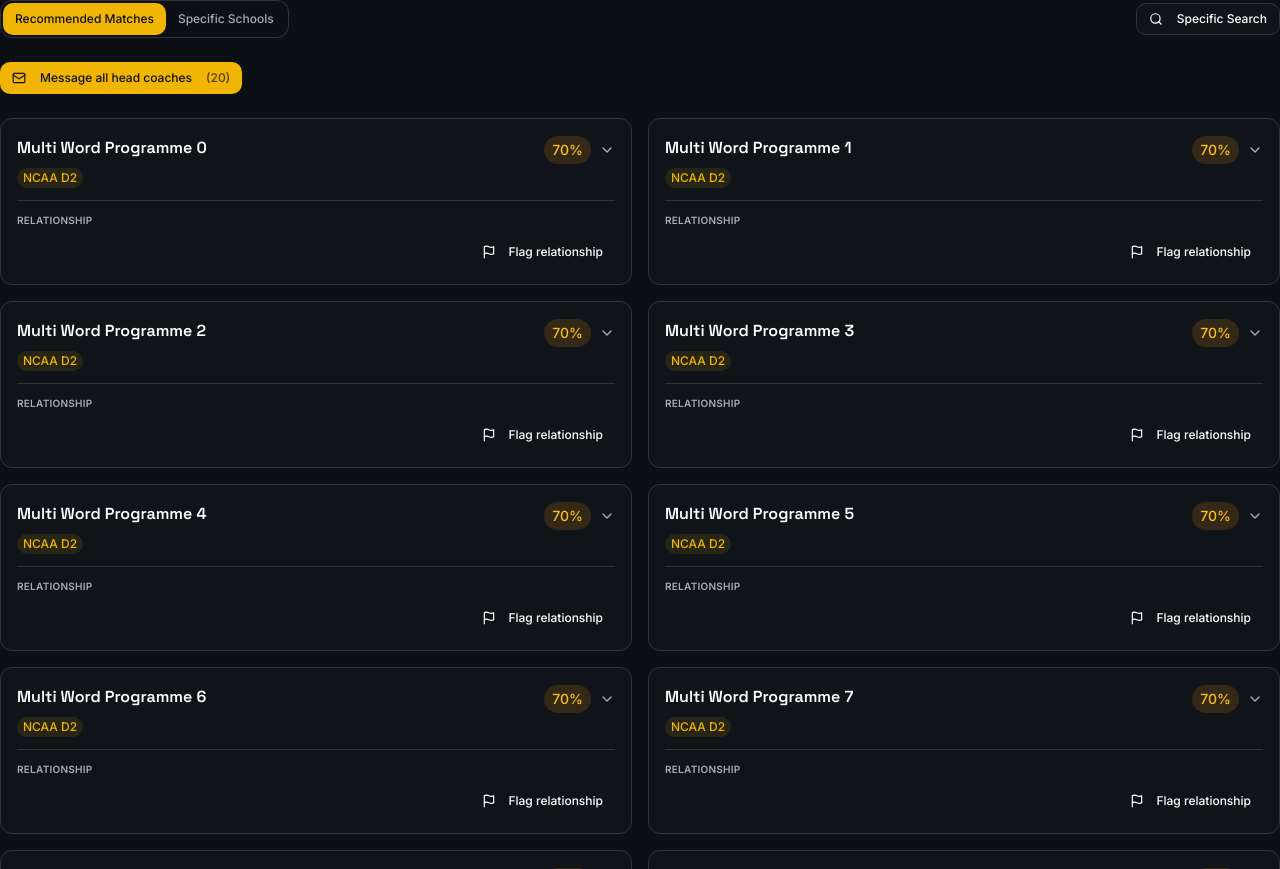
Test case: a failed page request is said once › shows one card’s unavailable locally, and no page-level line
Click the button "Multi Word Programme 0 NCAA D2 70%": [112, 148] box [17,136,615,188]
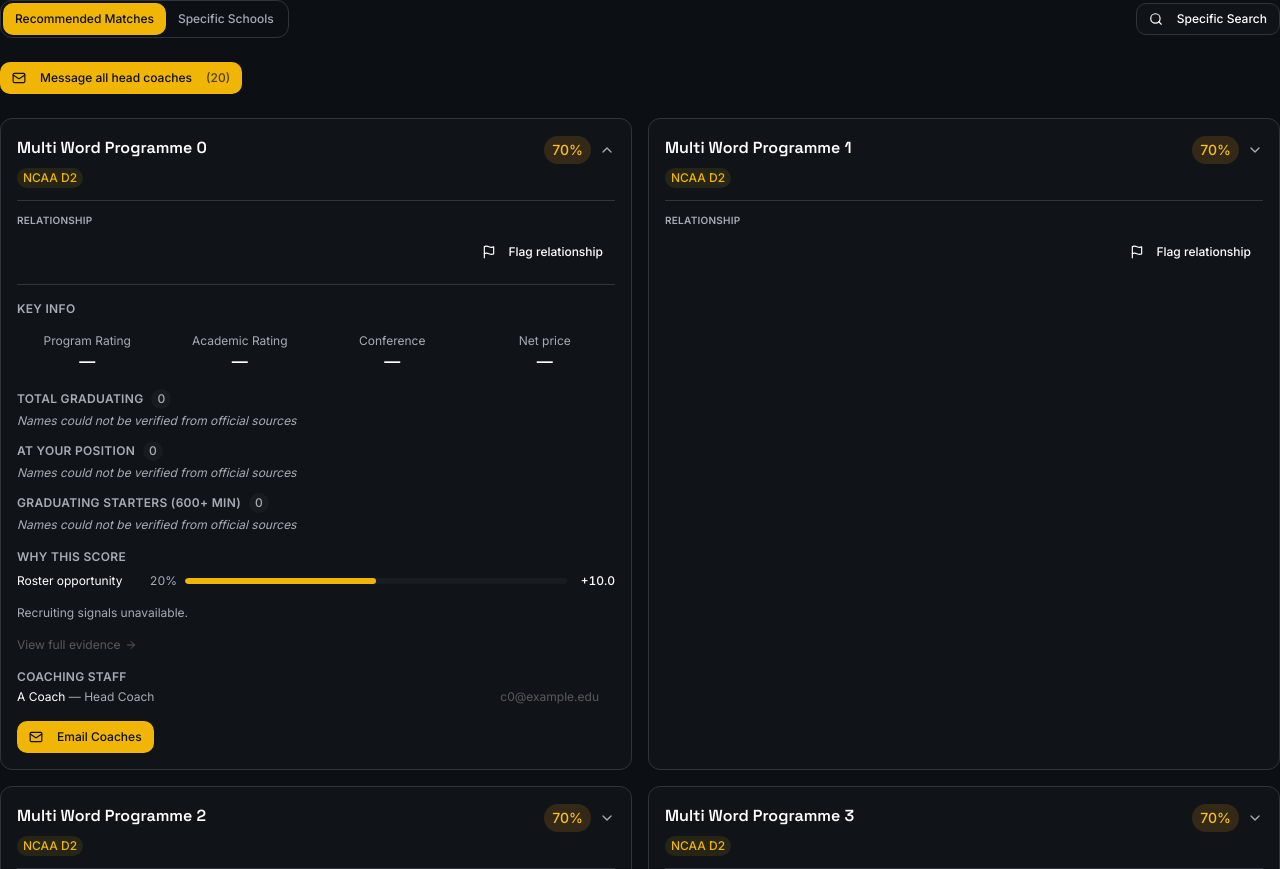
Expected: the text "Recruiting signals unavailable." is shown, [17,605,188,620]
